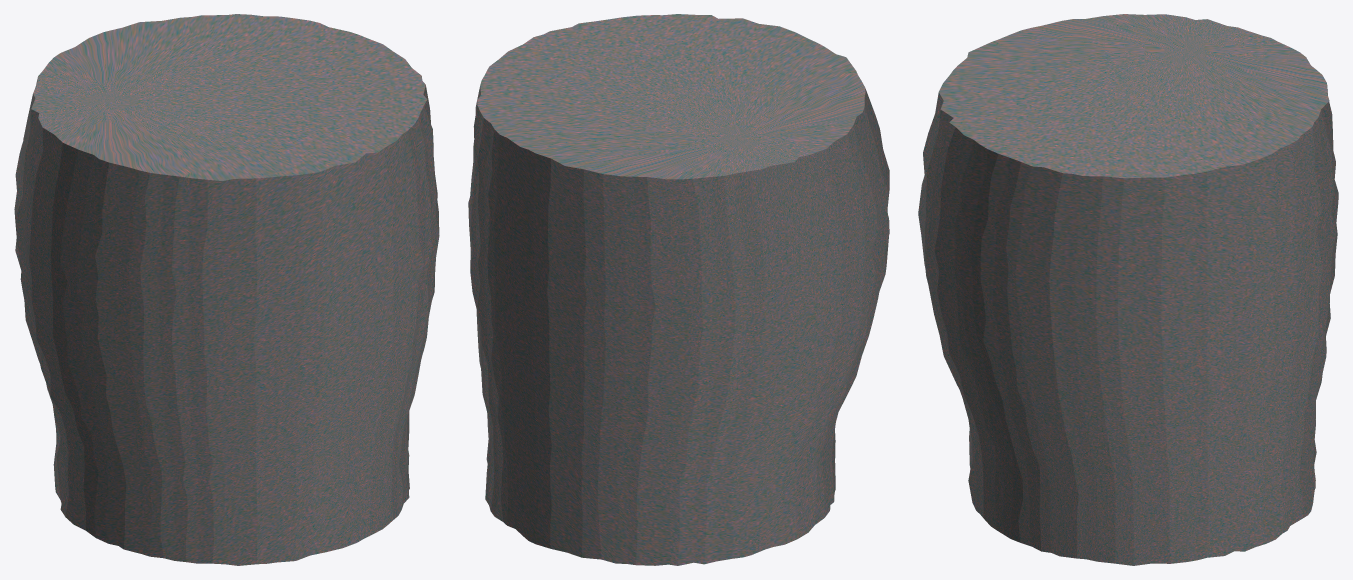
Rendered from barrel_1.dae.
3 views of the same model, side by side, from view 1: azimuth 30°, elevation 25°; view 2: azimuth 150°, elevation 25°; view 3: azimuth 270°, elevation 25° (orthographic).
Visible parts, largest first — view 1: Cylinder; view 2: Cylinder; view 3: Cylinder.
Part boxes in pixels (x1,y1,x2,y2): Cylinder: (14, 14, 439, 565); Cylinder: (468, 14, 889, 565); Cylinder: (918, 14, 1338, 565).
Size of the model in its own units: 0.9696 by 0.9734 by 1.
1 material, 1 textured.
